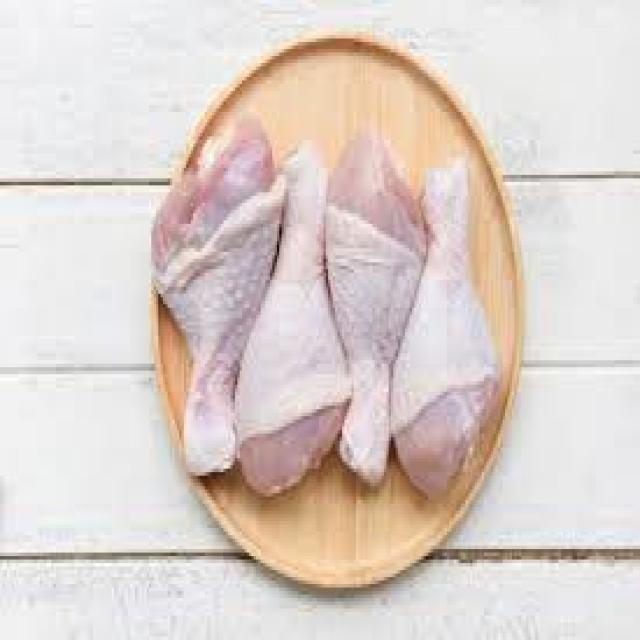Chicken: (151, 108, 503, 505)
